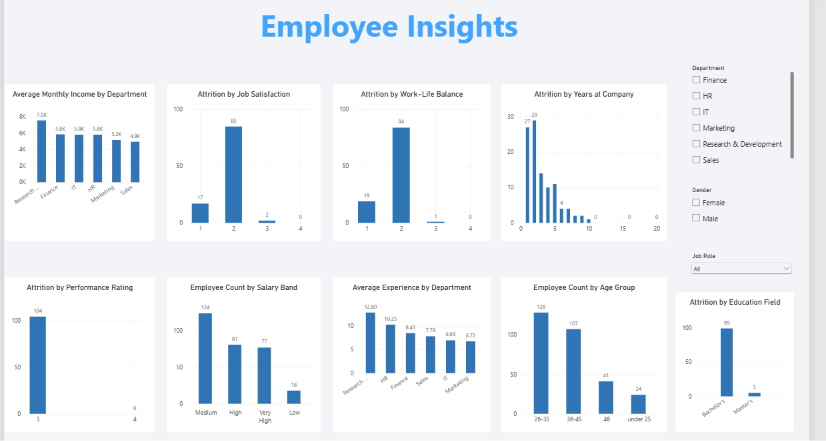

What the dashboard file says about the page in this screenshot:
{"tool":"powerbi","page":{"name":"Employee Insights","canvas":[1920,1080],"ordinal":1},"visuals":[{"type":"clusteredColumnChart","title":"Attrition by Performance Rating","fields":{"Category":["HR_Analytics_Dataset.Performance Rating"],"Y":["HR_Analytics_Dataset.Attrition Count Display"]},"box":[0,667.5,360,372.5],"z":0},{"type":"clusteredColumnChart","title":"Attrition by Job Satisfaction","fields":{"Y":["HR_Analytics_Dataset.Attrition Count Display"],"Category":["HR_Analytics_Dataset.Job Satisfaction"]},"box":[387.5,207.5,370,377.5],"z":1000},{"type":"clusteredColumnChart","title":"Attrition by Work-Life Balance","fields":{"Y":["HR_Analytics_Dataset.Attrition Count Display"],"Category":["HR_Analytics_Dataset.Work Life Balance"]},"box":[782.5,207.5,380,377.5],"z":2000},{"type":"clusteredColumnChart","title":"Attrition by Years at Company","fields":{"Y":["HR_Analytics_Dataset.Attrition Count Display"],"Category":["HR_Analytics_Dataset.Years At Company"]},"box":[1182.5,207.5,400,377.5],"z":3000},{"type":"clusteredColumnChart","title":"Average Monthly Income by Department","fields":{"Category":["HR_Analytics_Dataset.Department"],"Y":["Avg(HR_Analytics_Dataset.Monthly Income)"]},"box":[0,207.5,360,377.5],"z":4000},{"type":"clusteredColumnChart","title":"Average Experience by Department","fields":{"Category":["HR_Analytics_Dataset.Department"],"Y":["Avg(HR_Analytics_Dataset.Years At Company)"]},"box":[782.5,667.5,380,372.5],"z":5000},{"type":"clusteredColumnChart","title":"Employee Count by Salary Band","fields":{"Category":["HR_Analytics_Dataset.Salary Band"],"Y":["CountNonNull(HR_Analytics_Dataset.Employee ID)"]},"box":[387.5,667.5,370,372.5],"z":6000},{"type":"clusteredColumnChart","title":"Employee Count by Age Group","fields":{"Category":["HR_Analytics_Dataset.Age Group"],"Y":["CountNonNull(HR_Analytics_Dataset.Employee ID)"]},"box":[1182.5,667.5,400,372.5],"z":7000},{"type":"clusteredColumnChart","title":"Attrition by Education Field","fields":{"Category":["HR_Analytics_Dataset.Education"],"Y":["HR_Analytics_Dataset.Attrition Count"]},"box":[1600,705,285,335],"z":8000},{"type":"textbox","box":[0,0,1837.5,140],"z":9000},{"type":"slicer","fields":{"Values":["HR_Analytics_Dataset.Department"]},"box":[1635,162.5,250,235],"z":10000},{"type":"slicer","fields":{"Values":["HR_Analytics_Dataset.Gender"]},"box":[1635,452.5,250,132.5],"z":11000},{"type":"slicer","fields":{"Values":["HR_Analytics_Dataset.Job Role"]},"box":[1635,610,250,77.5],"z":12000}]}

Visuals, with their boxes on the page's 1920x1080 design canvas (x1, y1, x2, y2). These are canvas units, not pixel positions in the 826x441 screenshot, which may show the page scaled, cropped or inside an application window:
"Attrition by Performance Rating" clusteredColumnChart: [0,668,360,1040]
"Attrition by Job Satisfaction" clusteredColumnChart: [388,208,758,585]
"Attrition by Work-Life Balance" clusteredColumnChart: [782,208,1162,585]
"Attrition by Years at Company" clusteredColumnChart: [1182,208,1582,585]
"Average Monthly Income by Department" clusteredColumnChart: [0,208,360,585]
"Average Experience by Department" clusteredColumnChart: [782,668,1162,1040]
"Employee Count by Salary Band" clusteredColumnChart: [388,668,758,1040]
"Employee Count by Age Group" clusteredColumnChart: [1182,668,1582,1040]
"Attrition by Education Field" clusteredColumnChart: [1600,705,1885,1040]
textbox: [0,0,1838,140]
slicer - HR_Analytics_Dataset.Department: [1635,162,1885,398]
slicer - HR_Analytics_Dataset.Gender: [1635,452,1885,585]
slicer - HR_Analytics_Dataset.Job Role: [1635,610,1885,688]
